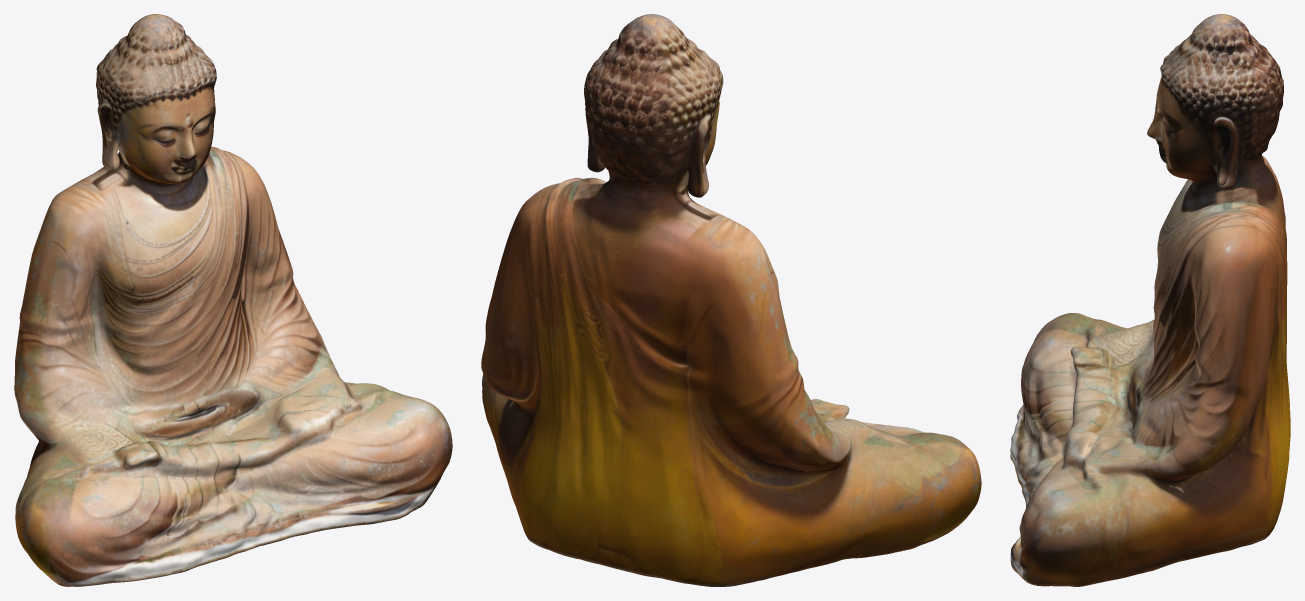
File: buddha.glb
The picture shows the model from 3 angles, left to right: view 1: azimuth 30°, elevation 25°; view 2: azimuth 150°, elevation 25°; view 3: azimuth 270°, elevation 25°; orthographic projection. The views are drawn at different scales.
Parts seen in each view (by area): view 1: Mesh_0; view 2: Mesh_0; view 3: Mesh_0.
Part boxes in pixels (<box>): Mesh_0: <box>14,14,452,586</box>; Mesh_0: <box>481,14,981,586</box>; Mesh_0: <box>1010,14,1290,586</box>.
Bounding box in the file's own units: 1.43 × 1.5 × 0.7962.
Materials: 1 (1 with a texture image).
